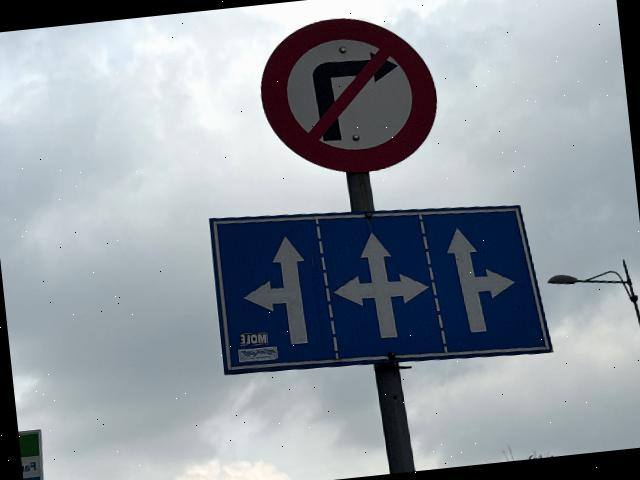cam-re-trai: (252, 8, 445, 184)
